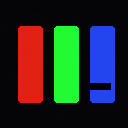3 line_h: (90, 83, 110, 89)
